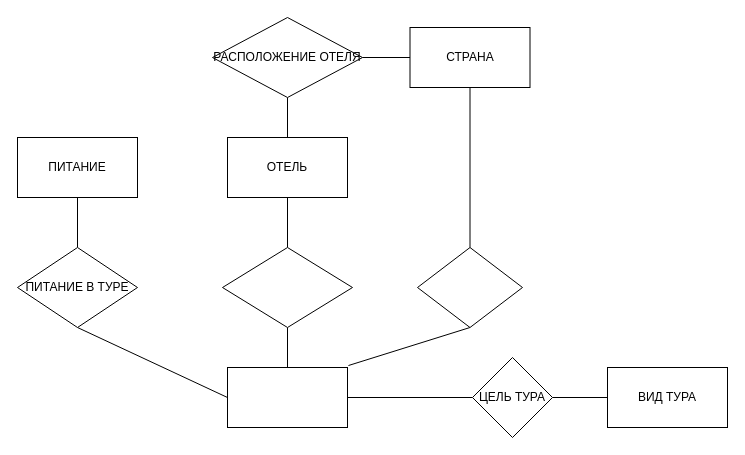
This 745x455 diagram has some shape labels left out. Here are the shapes that lost their labels. From the top down, the centre of each, then its label:
At pixel 287 287: "МЕСТО ПРОЖИВАНИЯ".
At pixel 469 287: "СТРАНА ПОСЕЩЕНИЯ".
At pixel 287 397: "ТУР".
